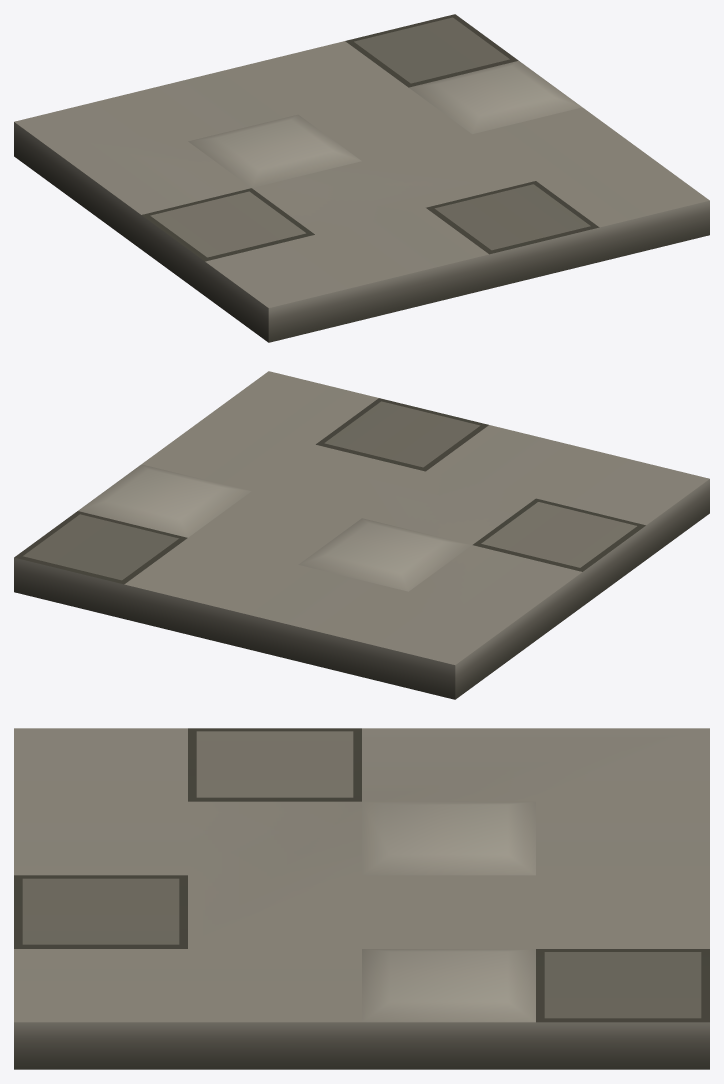
Rendered from Pavement_1P_4x4.fbx.
3 views of the same model, one above another, from view 1: azimuth 30°, elevation 25°; view 2: azimuth 150°, elevation 25°; view 3: azimuth 270°, elevation 25° (orthographic). The views are drawn at different scales.
Visible parts, largest first — view 1: Pavement_1P_4x4; view 2: Pavement_1P_4x4; view 3: Pavement_1P_4x4.
Part boxes in pixels (x1,y1,x2,y2): Pavement_1P_4x4: (14,14,709,342); Pavement_1P_4x4: (14,371,709,699); Pavement_1P_4x4: (14,728,709,1069).
Bounding box in the file's own units: 4 × 0.3565 × 4.
